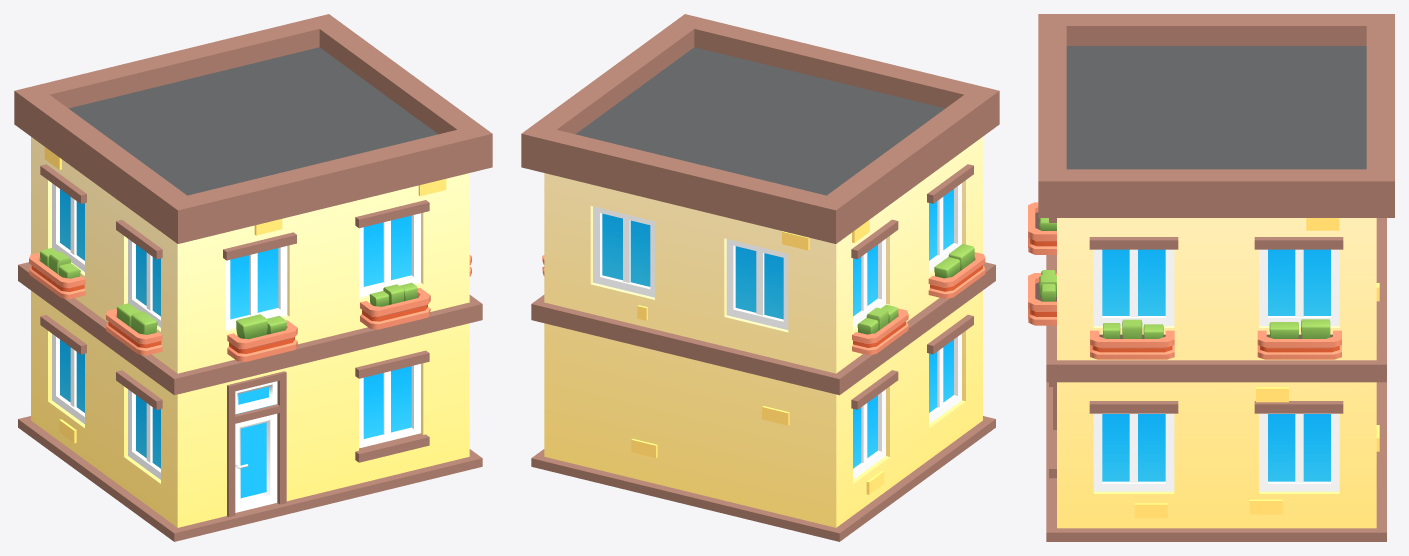
The model's file is city2-building-living-03.glb.
3 views of the same model, side by side, from view 1: azimuth 30°, elevation 25°; view 2: azimuth 150°, elevation 25°; view 3: azimuth 270°, elevation 25° (orthographic). The views are drawn at different scales.
Parts seen in each view (by area): view 1: Building_Living_03; view 2: Building_Living_03; view 3: Building_Living_03.
Part boxes in pixels (box(x1,y1,x2,y2)): Building_Living_03: box(14, 14, 492, 541); Building_Living_03: box(521, 14, 999, 541); Building_Living_03: box(1028, 14, 1394, 541).
Size of the model in its own units: 8.19 by 7.83 by 7.15.
1 material, 1 textured.
